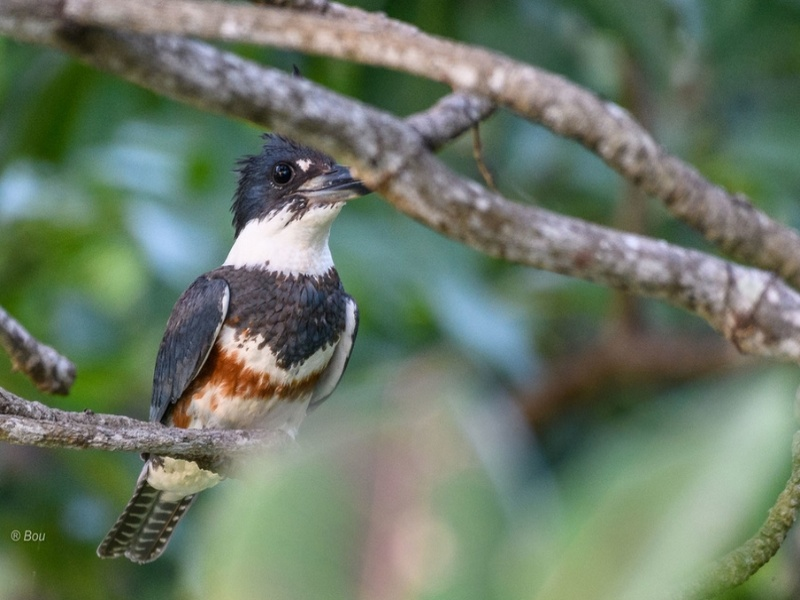kingfisher: (95, 66, 393, 574)
